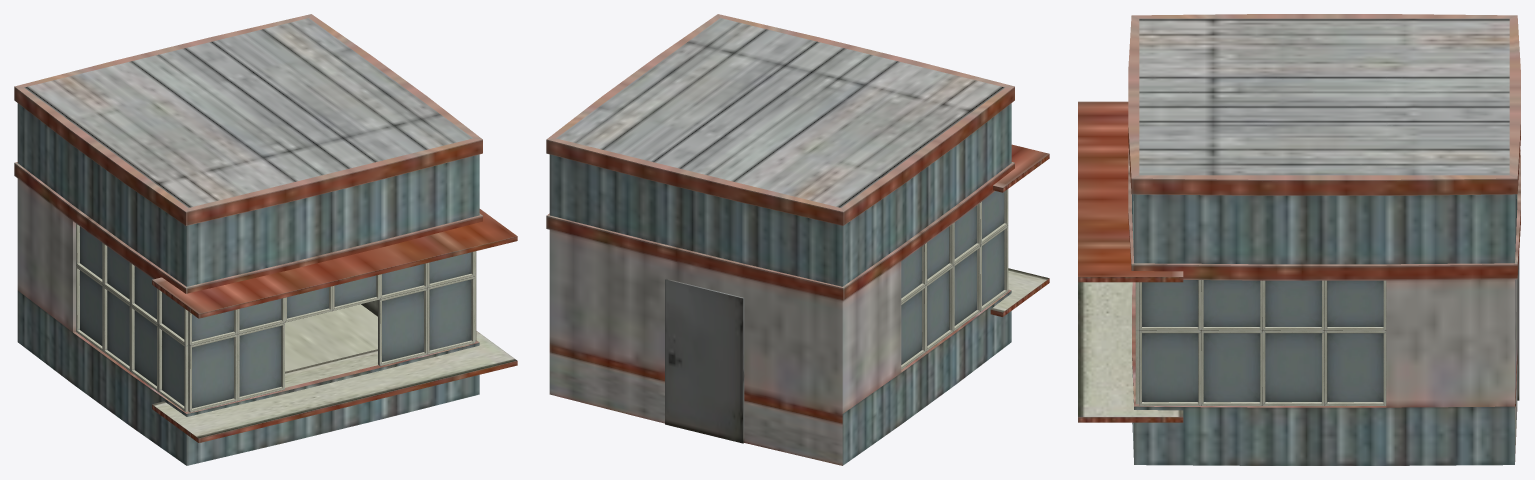
File: kiosk_392.glb
3 views of the same model, side by side, from view 1: azimuth 30°, elevation 25°; view 2: azimuth 150°, elevation 25°; view 3: azimuth 270°, elevation 25° (orthographic). The views are drawn at different scales.
Parts seen in each view (by area): view 1: kiosk_392; view 2: kiosk_392; view 3: kiosk_392.
Boxes of the visible parts, bbox=[...] form: kiosk_392: bbox=[14, 14, 517, 465]; kiosk_392: bbox=[546, 14, 1049, 465]; kiosk_392: bbox=[1078, 14, 1520, 465].
Bounding box in the file's own units: 3.53 × 2.7 × 3.77.
1 material, 1 textured.
